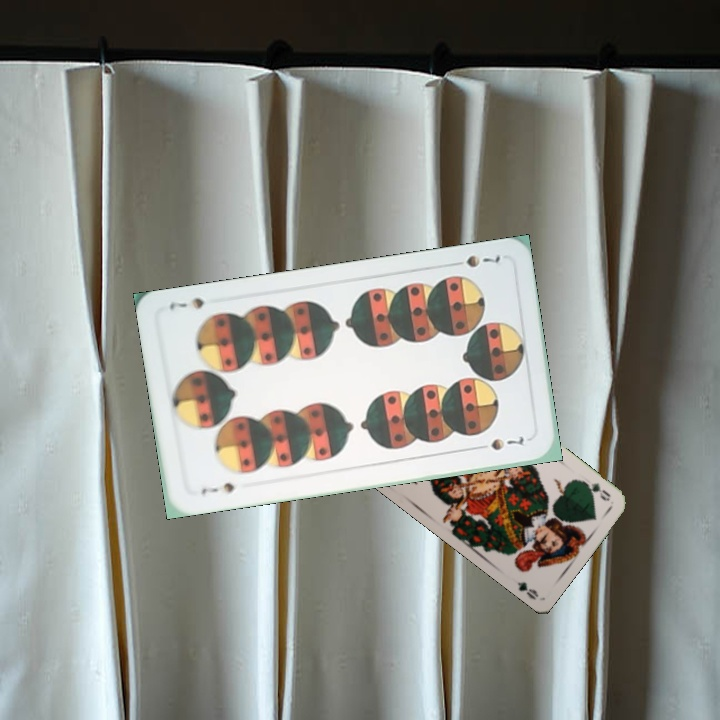GO: (577, 476, 613, 504)
S7: (447, 250, 503, 270), (197, 478, 237, 497)
